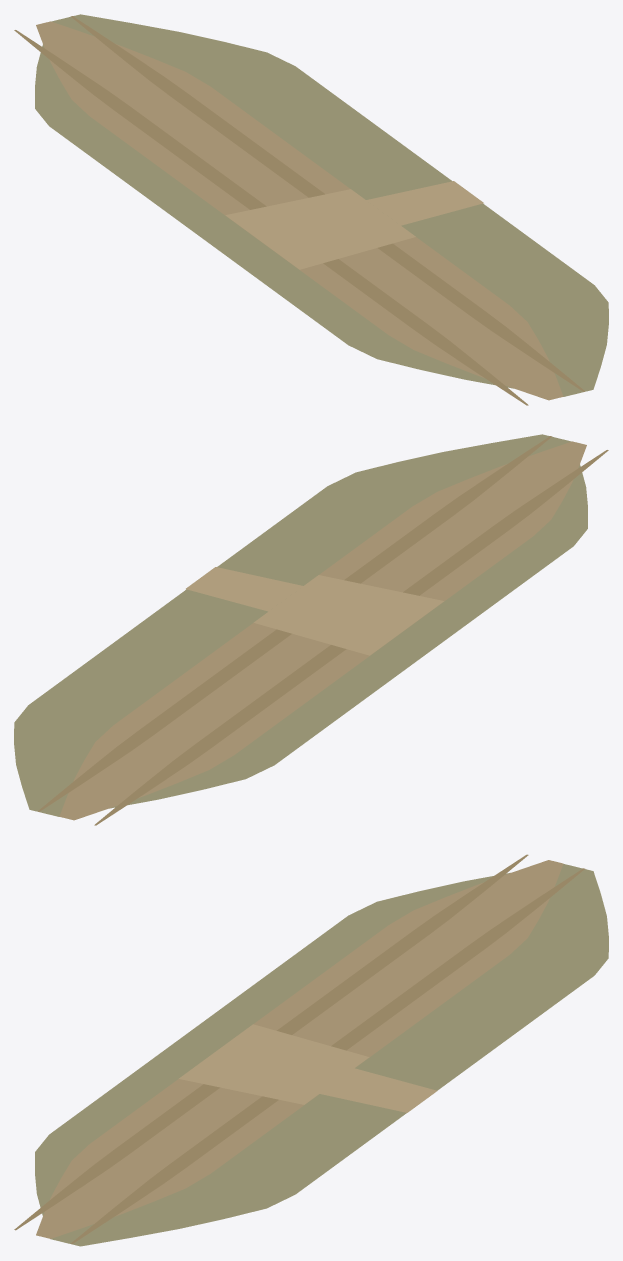
The model's file is lwf_hedge_gate_lane_v1.glb.
3 views of the same model, one above another, from view 1: azimuth 30°, elevation 25°; view 2: azimuth 150°, elevation 25°; view 3: azimuth 330°, elevation 25° (orthographic).
Visible parts, largest first — view 1: LWF_HedgeGateLane; view 2: LWF_HedgeGateLane; view 3: LWF_HedgeGateLane.
Part boxes in pixels (x1=…): LWF_HedgeGateLane: x1=14, y1=14, x2=608, y2=405; LWF_HedgeGateLane: x1=14, y1=434, x2=608, y2=825; LWF_HedgeGateLane: x1=14, y1=854, x2=608, y2=1246.
Size of the model in its own units: 6.12 by 0.012 by 22.
Materials: 1 (1 with a texture image).
